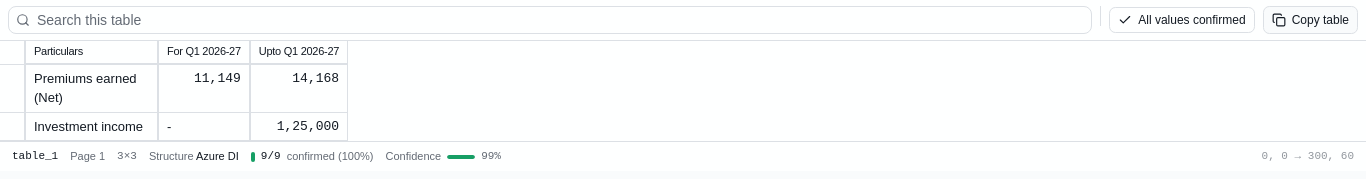
Scenario: TableViewer › search › clears with the button
Type "Q1" into the field labelled "Search this table" at (550, 20), box 8,6 -> 1092,34
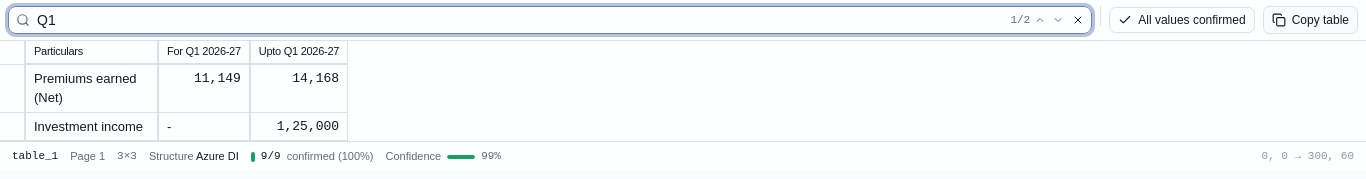
Click the button named "Clear search" at (1078, 20), box 1068,10 -> 1088,30
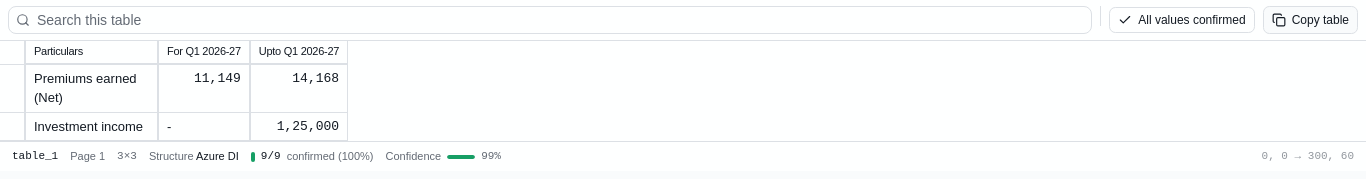
Check: the field labelled "Search this table" is empty, box 8,6 -> 1092,34
